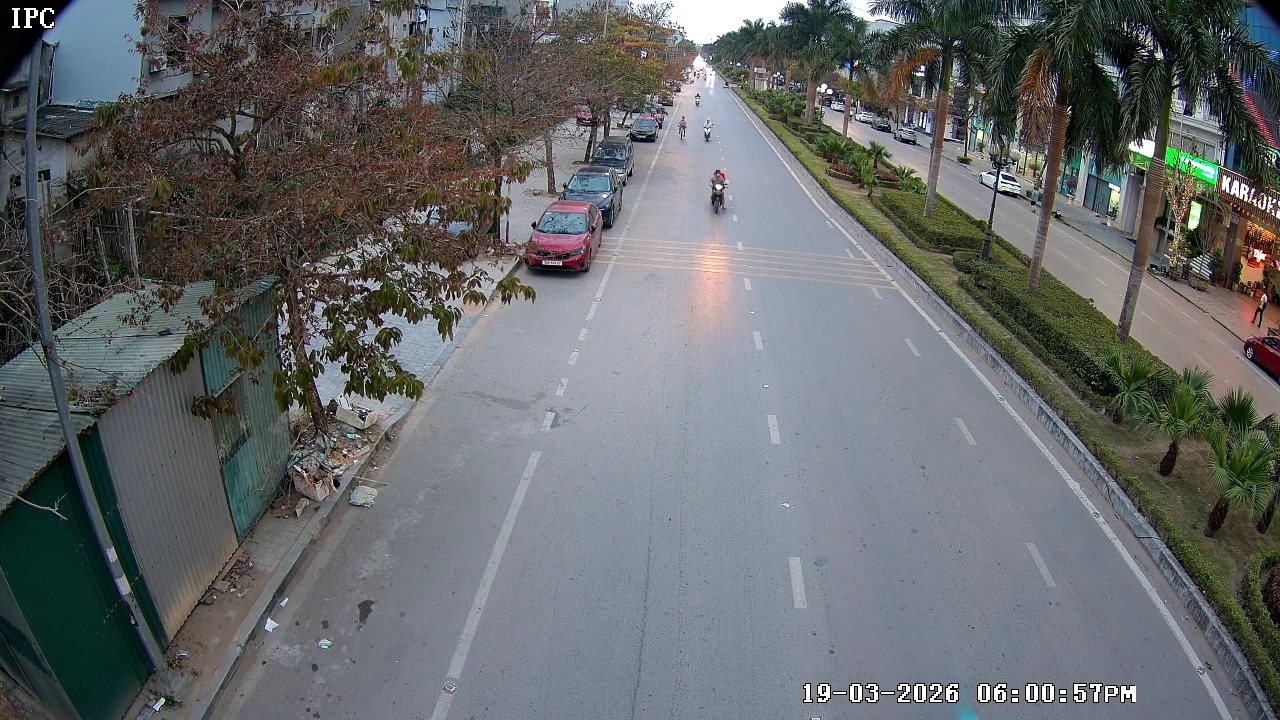car: (524, 201, 600, 276), (560, 169, 622, 229)
motorbike: (704, 168, 730, 212), (701, 118, 715, 142), (678, 116, 688, 141), (692, 93, 705, 109)
